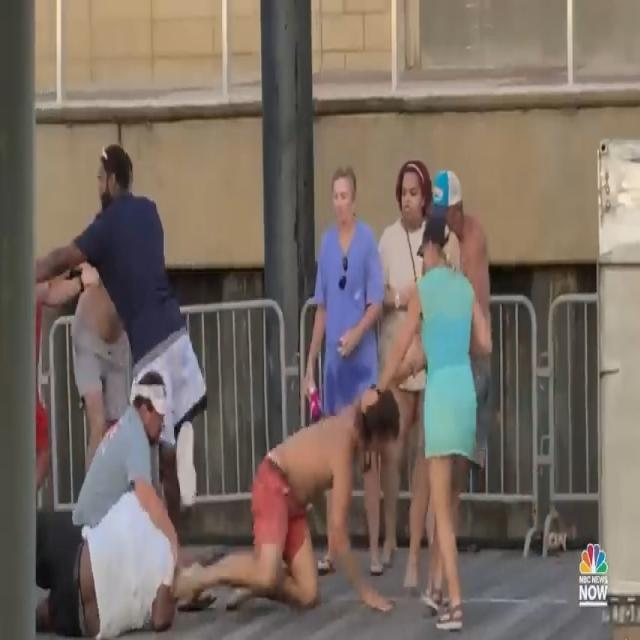fight: (31, 129, 196, 640)
non-fight: (207, 144, 517, 640)
